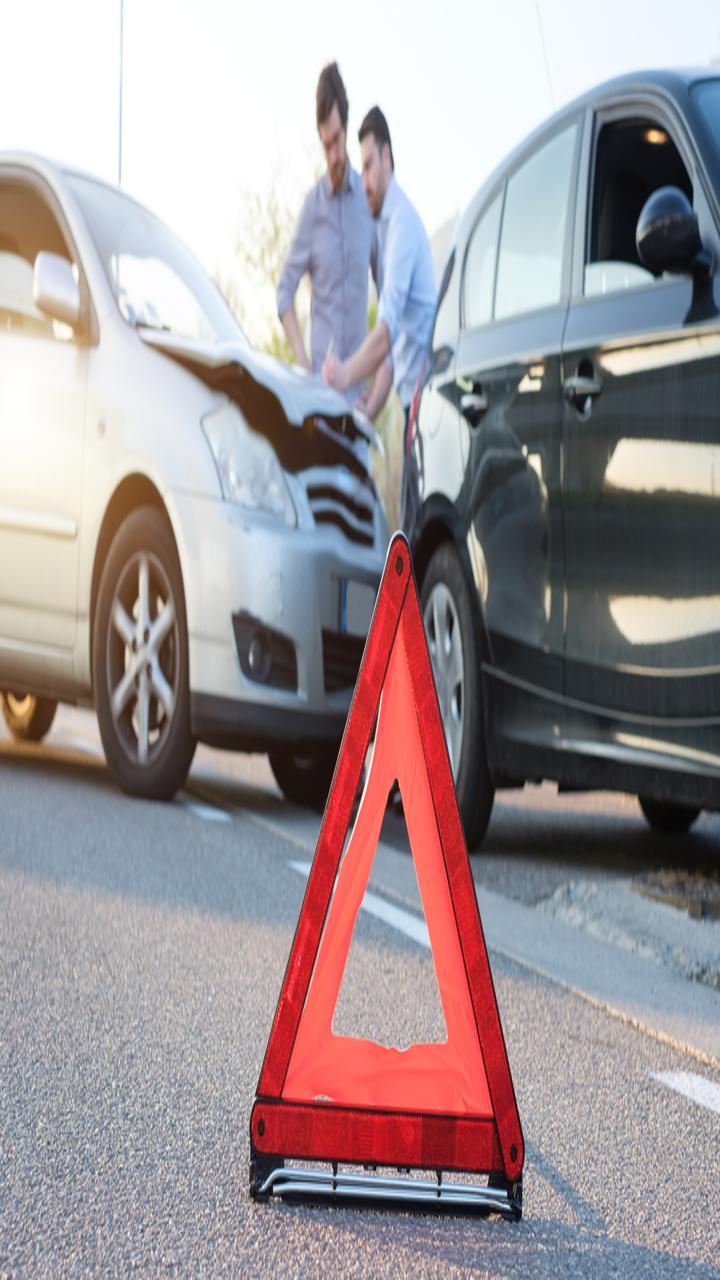Traffic sign: (196, 533, 554, 1231)
pedestrian: (280, 41, 382, 372), (340, 100, 442, 431)
vehicle: (1, 143, 394, 815), (407, 58, 720, 841)
